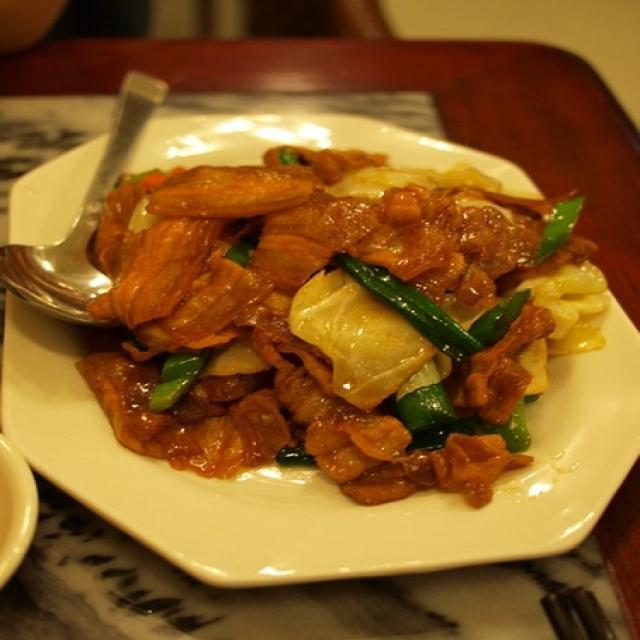猪肉菜式: (49, 77, 565, 532)
